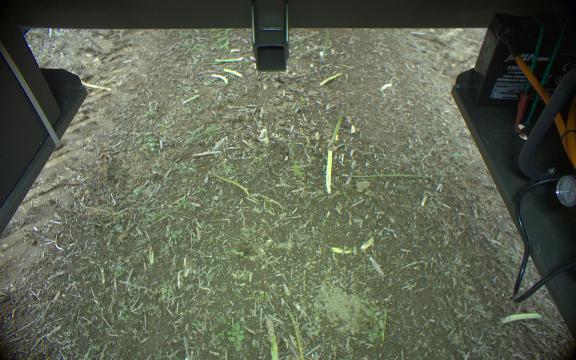aspa: (340, 165, 434, 182), (206, 170, 252, 201), (284, 309, 307, 360), (327, 100, 343, 148), (501, 308, 545, 325), (264, 316, 279, 360), (324, 146, 335, 194), (320, 70, 342, 87), (212, 56, 244, 65), (209, 71, 228, 86), (223, 67, 242, 78)
